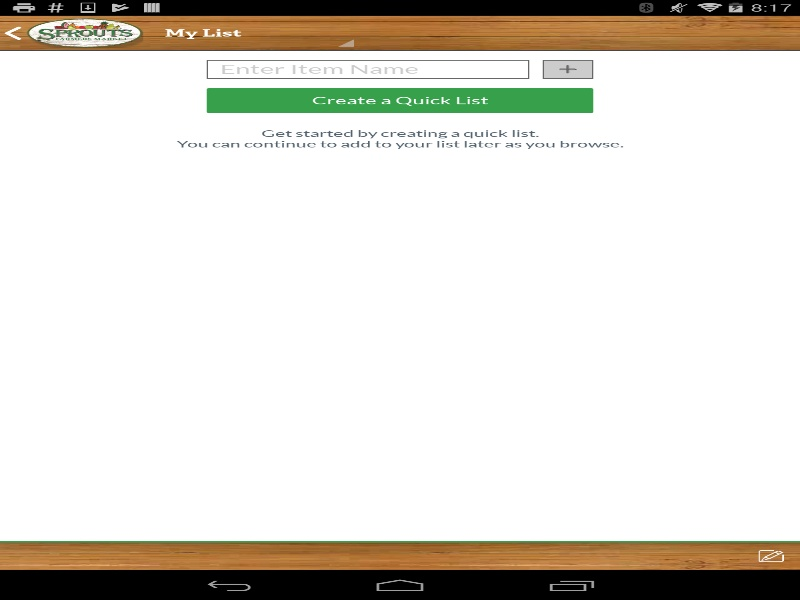Button: (206, 88, 593, 113), (742, 542, 800, 569), (542, 60, 593, 78)
Input: (206, 60, 529, 78)
